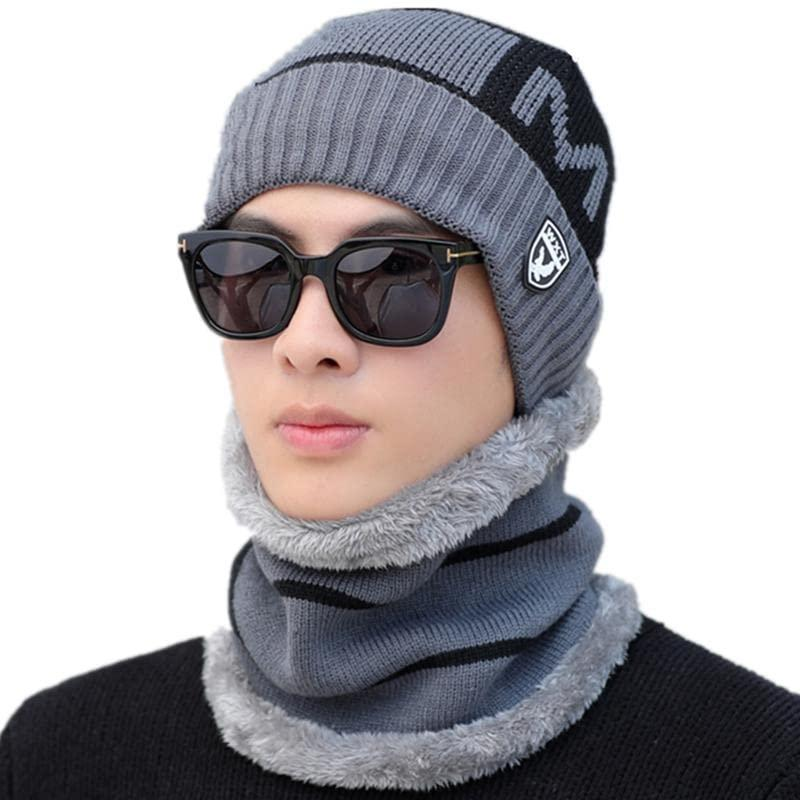cap: (194, 0, 630, 402)
scarf-kerchief: (190, 390, 630, 800)
sunglasses: (172, 220, 470, 350)
